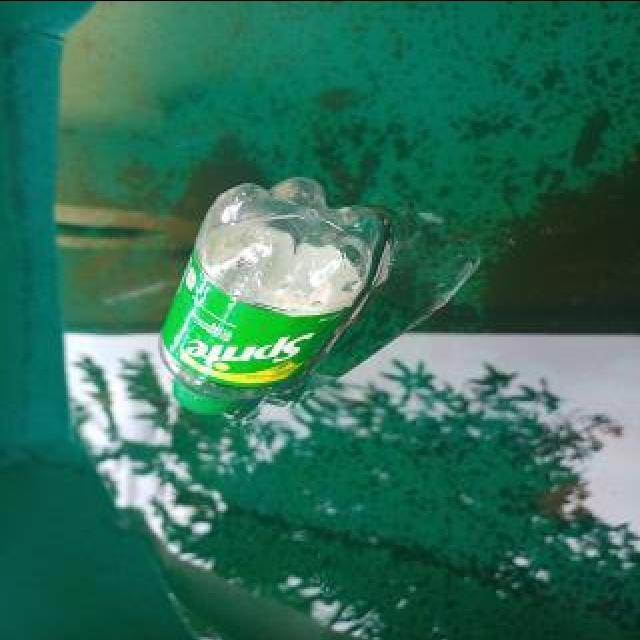Bottle: (154, 164, 392, 439)
